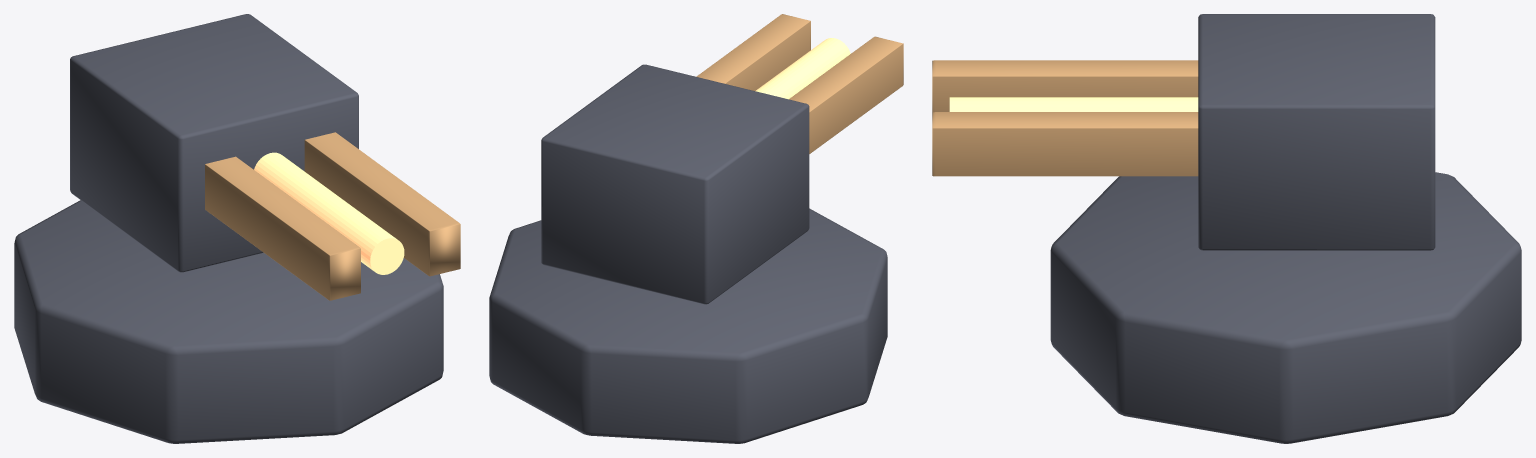
File: turret_railgun.glb
3 renders of one model, left to right at view 1: azimuth 30°, elevation 25°; view 2: azimuth 150°, elevation 25°; view 3: azimuth 270°, elevation 25°, orthographic. The views are drawn at different scales.
Visible parts, largest first — view 1: Cylinder, Cube, Cube.001, Cube.002, Cylinder.001; view 2: Cylinder, Cube, Cube.001, Cube.002, Cylinder.001; view 3: Cylinder, Cube, Cube.002, Cube.001, Cylinder.001.
Part boxes in pixels (x1=…): Cylinder: x1=14, y1=200, x2=443, y2=443; Cube: x1=70, y1=14, x2=358, y2=272; Cube.001: x1=205, y1=156, x2=360, y2=300; Cube.002: x1=304, y1=132, x2=460, y2=276; Cylinder.001: x1=254, y1=152, x2=404, y2=274; Cylinder: x1=489, y1=208, x2=887, y2=443; Cube: x1=541, y1=64, x2=809, y2=304; Cube.001: x1=789, y1=36, x2=903, y2=153; Cube.002: x1=696, y1=14, x2=810, y2=90; Cylinder.001: x1=755, y1=38, x2=850, y2=99; Cylinder: x1=1050, y1=172, x2=1521, y2=443; Cube: x1=1198, y1=14, x2=1435, y2=250; Cube.002: x1=932, y1=112, x2=1198, y2=176; Cube.001: x1=932, y1=60, x2=1198, y2=112; Cylinder.001: x1=949, y1=97, x2=1198, y2=111.
Bounding box in the file's own units: 1.23 × 0.83 × 1.54.
